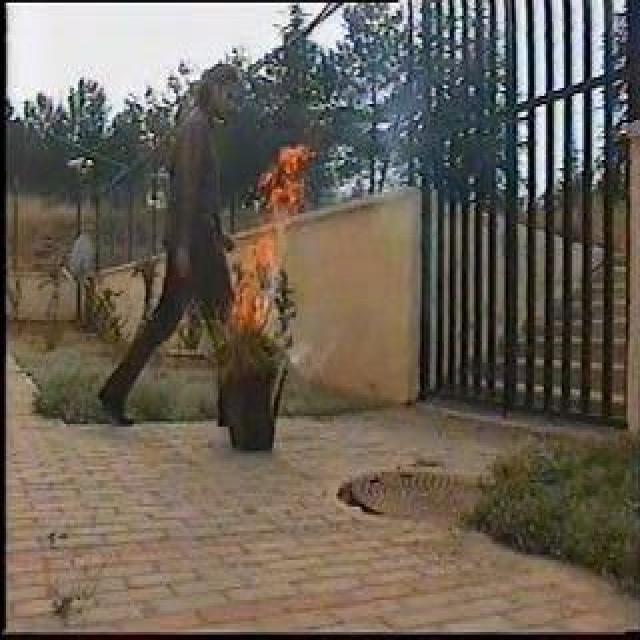fire: (236, 144, 310, 330)
